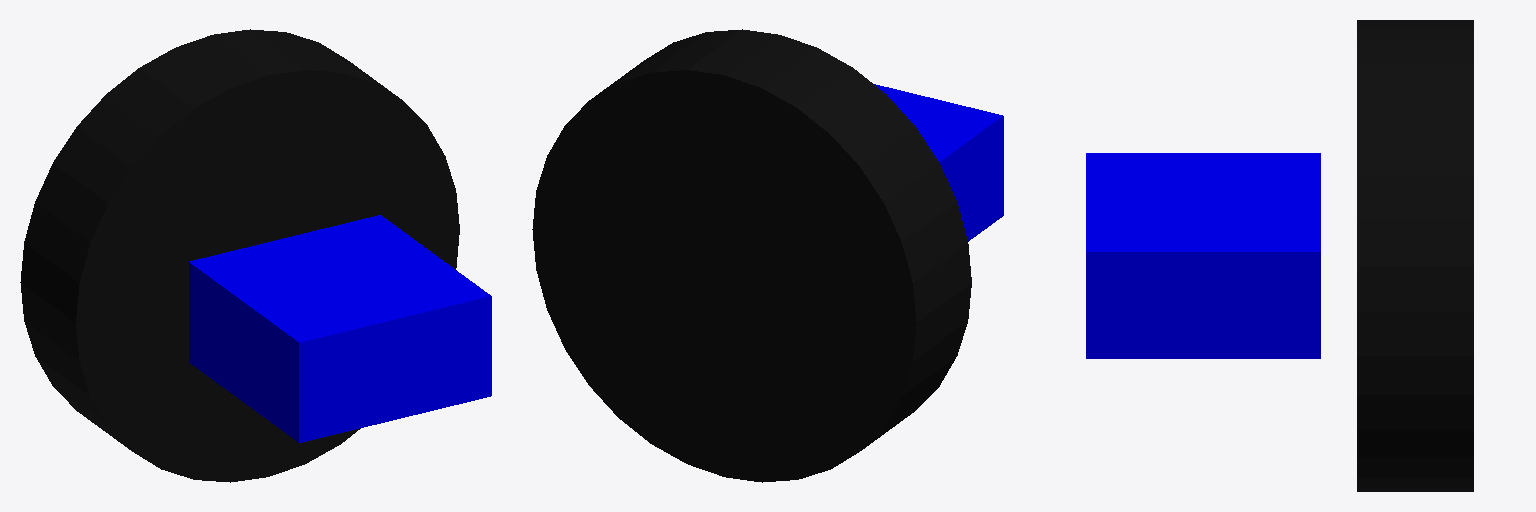
The robot description file, URDF, robot "simple_robot":
<?xml version="1.0"?>
<robot name="simple_robot"
  xmlns:controller="http://playerstage.sourceforge.net/gazebo/xmlschema/#controller"
  xmlns:interface="http://playerstage.sourceforge.net/gazebo/xmlschema/#interface"
  xmlns:sensor="http://playerstage.sourceforge.net/gazebo/xmlschema/#sensor"
  xmlns:xacro="http://ros.org/wiki/xacro">

  <!-- Base Link -->
  <link name="base_link">
    <visual>
      <geometry>
        <box size="0.2 0.2 0.1" />
      </geometry>
      <material name="Blue">
        <color rgba="0 0 1 1" />
      </material>
    </visual>
    <collision>
      <geometry>
        <box size="0.2 0.2 0.1" />
      </geometry>
    </collision>
  </link>

  <!-- Wheel Link -->
  <link name="wheel_link">
    <visual>
      <geometry>
        <cylinder length="0.1" radius="0.2" />
      </geometry>
      <material name="Black">
        <color rgba="0.1 0.1 0.1 1" />
      </material>
    </visual>
    <collision>
      <geometry>
        <cylinder length="0.1" radius="0.18" />
      </geometry>
    </collision>
    <inertial>
      <mass value="0.5" />
      <inertia ixx="0.01" ixy="0.0" ixz="0.0" iyy="0.01" iyz="0.0" izz="0.005" />
    </inertial>
  </link>

  <!-- Rotational Joint -->
  <joint name="wheel_joint" type="continuous">
    <parent link="base_link"/>
    <child link="wheel_link"/>
    <origin xyz="0 0.18 0" rpy="1.5708 0 0"/>
    <axis xyz="0 0 1"/>
  </joint>

  <ros2_control name="CybergearMotorWheelJoint" type="actuator">
    <hardware>
      <plugin>cybergear_control/CybergearActuator</plugin>
      <param name="can_interface">can0</param>
      <param name="timeout_sec">3.0</param>
      <param name="interval_sec">0.5</param>
      <param name="device_id">127</param>
      <param name="primary_id">0</param>
      <param name="max_position">12.56637061</param>
      <param name="min_position">-12.56637061</param>
      <param name="max_velocity">30.0</param>
      <param name="min_velocity">-30.0</param>
      <param name="max_effort">12.0</param>
      <param name="min_effort">-12.0</param>
      <param name="max_gain_kp">500.0</param>
      <param name="min_gain_kp">0.0</param>
      <param name="max_gain_kd">5.0</param>
      <param name="min_gain_kd">0.0</param>
      <param name="max_current">23.0</param>
      <param name="min_current">-23.0</param>
      <param name="temperature_scale">0.1</param>
    </hardware>
    <joint name="wheel_joint">
      <command_interface name="velocity">
        <param name="min">-100</param>
        <param name="max">100</param>
      </command_interface>
      <state_interface name="position"/>
      <state_interface name="velocity"/>
      <state_interface name="torque"/>
    </joint>
  </ros2_control>

</robot>

--- Render facts (derived) ---
Views: 3 orthographic renders of the robot side by side, from view 1: azimuth 30°, elevation 25°; view 2: azimuth 150°, elevation 25°; view 3: azimuth 270°, elevation 25°.
Model simple_robot with 2 links and 1 joints (1 continuous), rooted at base_link, posed all joints at 0.
Links seen in each view (by area): view 1: wheel_link, base_link; view 2: wheel_link, base_link; view 3: wheel_link, base_link.
Link boxes in pixels (box(x1,y1,x2,y2)): wheel_link: box(20, 29, 459, 482); base_link: box(189, 215, 491, 442); wheel_link: box(532, 29, 971, 482); base_link: box(874, 84, 1003, 241); wheel_link: box(1357, 20, 1473, 491); base_link: box(1086, 153, 1320, 358).
Bounding box of the posed robot: 0.4 × 0.33 × 0.4 m (x, y, z).
Geometry: primitives only (box / cylinder / sphere), no mesh files.